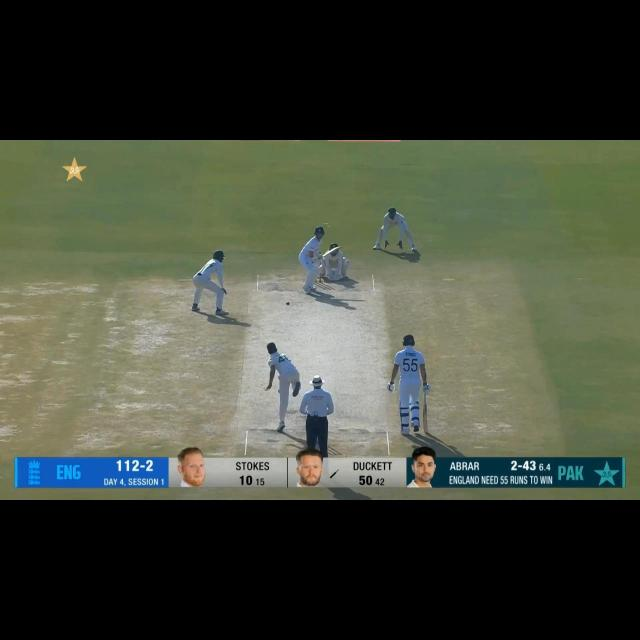bat: (322, 245, 342, 257), (422, 404, 430, 434)
toe: (422, 427, 429, 433), (336, 245, 341, 250)
